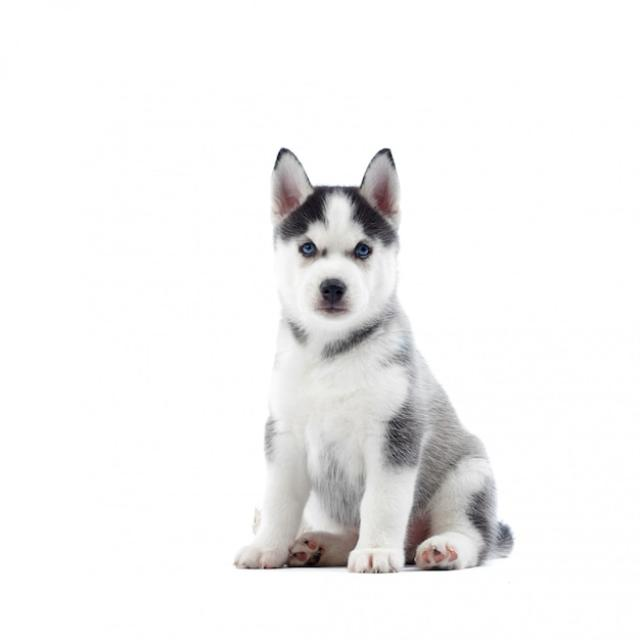Dog: (234, 147, 514, 575)
